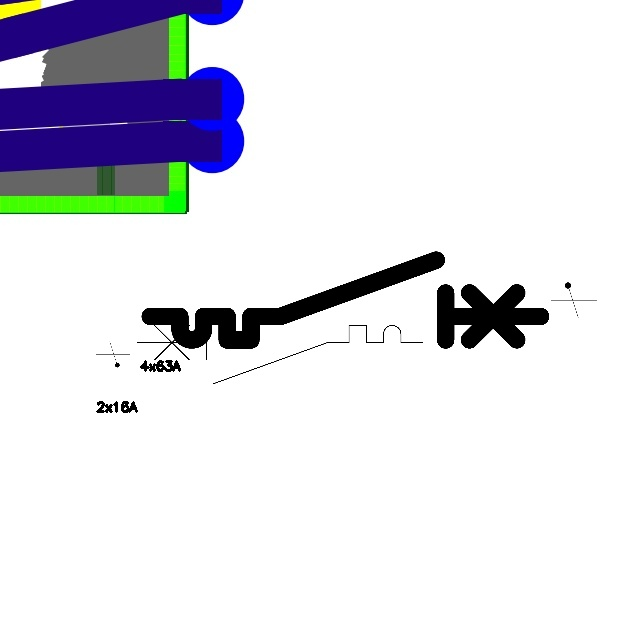interruptor_termomagnetico: (140, 250, 550, 350), (130, 318, 430, 391)
